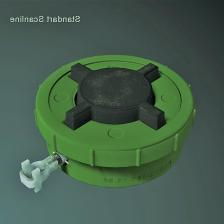PMN2: (20, 46, 202, 202)
